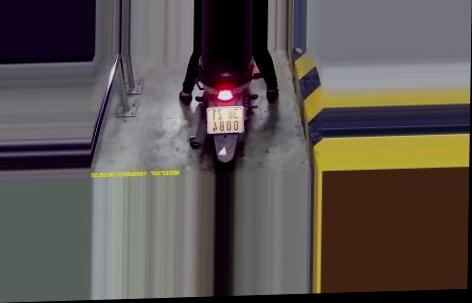License_Plate: (203, 103, 248, 137)
